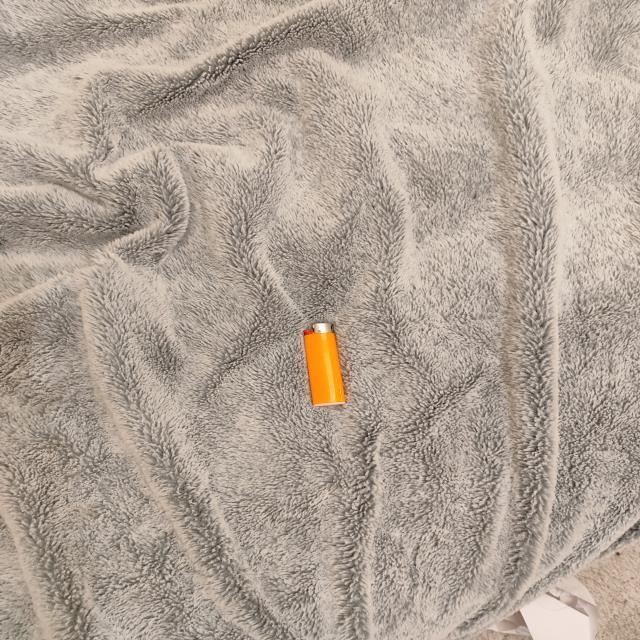lighter: (304, 323, 347, 405)
